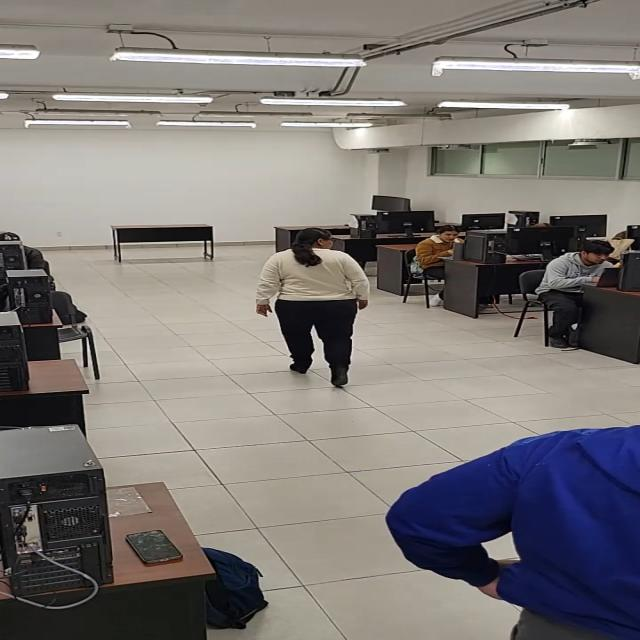Persona: (247, 223, 366, 391)
